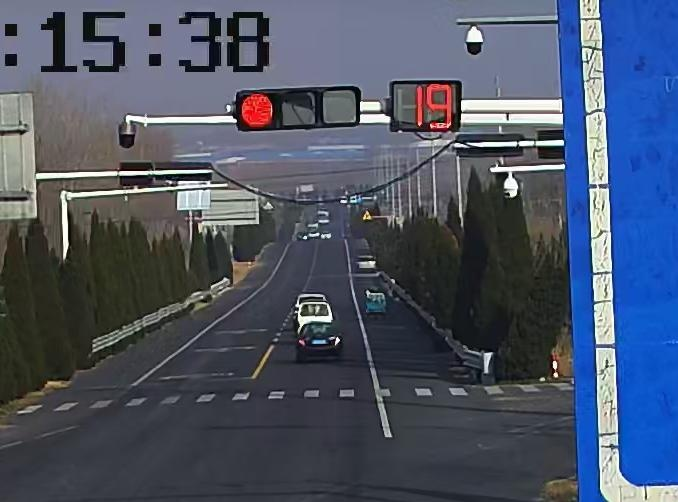red: (241, 93, 278, 129)
redtime: (413, 81, 457, 129)
